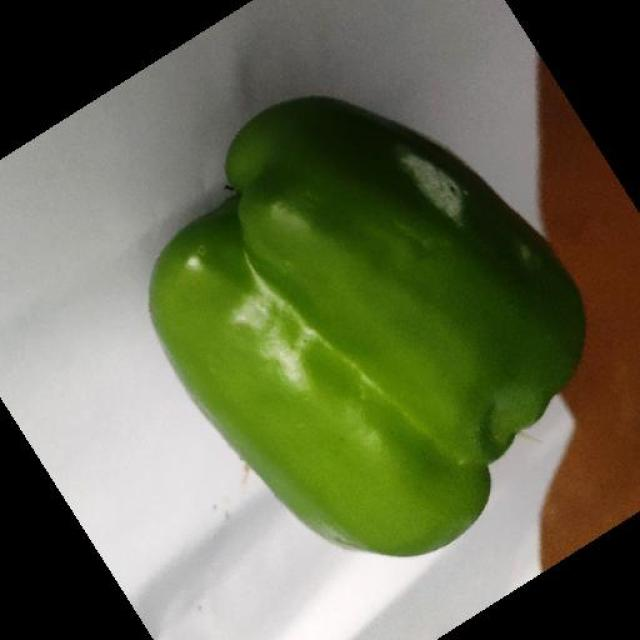Fresh_Capsicum: (179, 155, 574, 580)
Stale_Capsicum: (175, 143, 571, 608)
